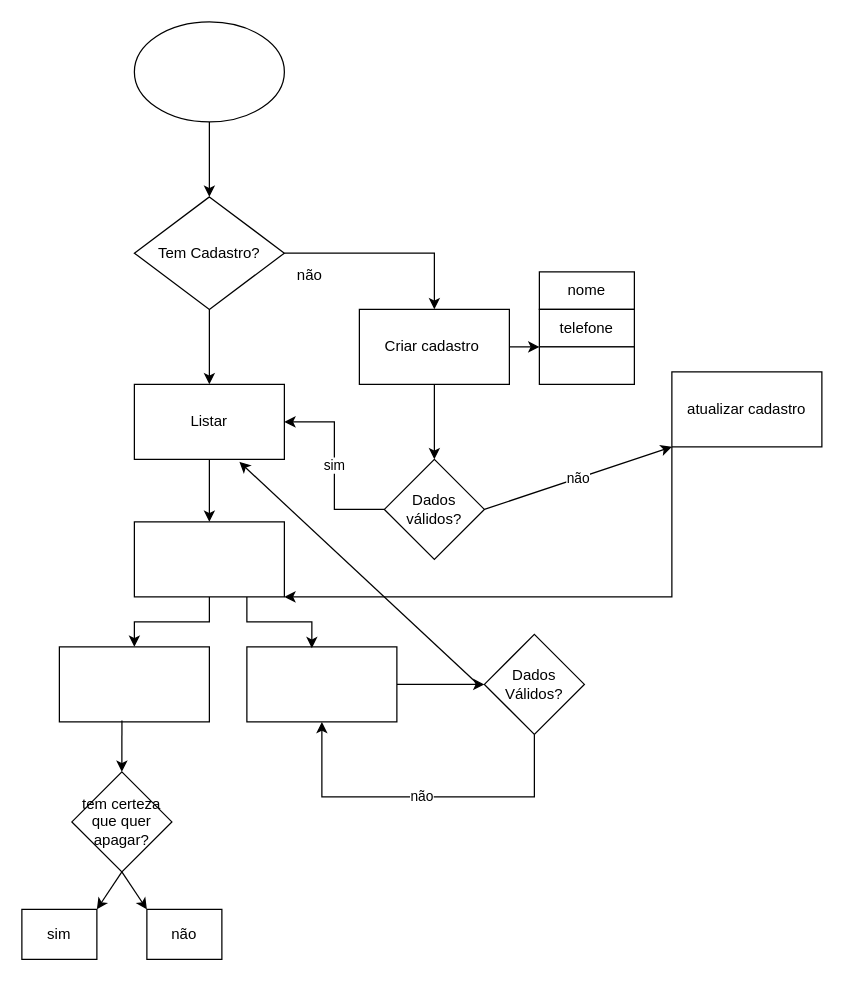
Some shapes in this 844 by 981 pixel diagram are drawn without their labels. Here are the shapes that lost their labels. From the top down, the centre of each, then its label:
[208,71]: Cadastro Matéria Prima
[586,365]: endereço
[208,559]: Buscar Matéria Prima
[133,684]: Apagar Matéria Prima
[321,684]: Atualizar Matéria Prima
